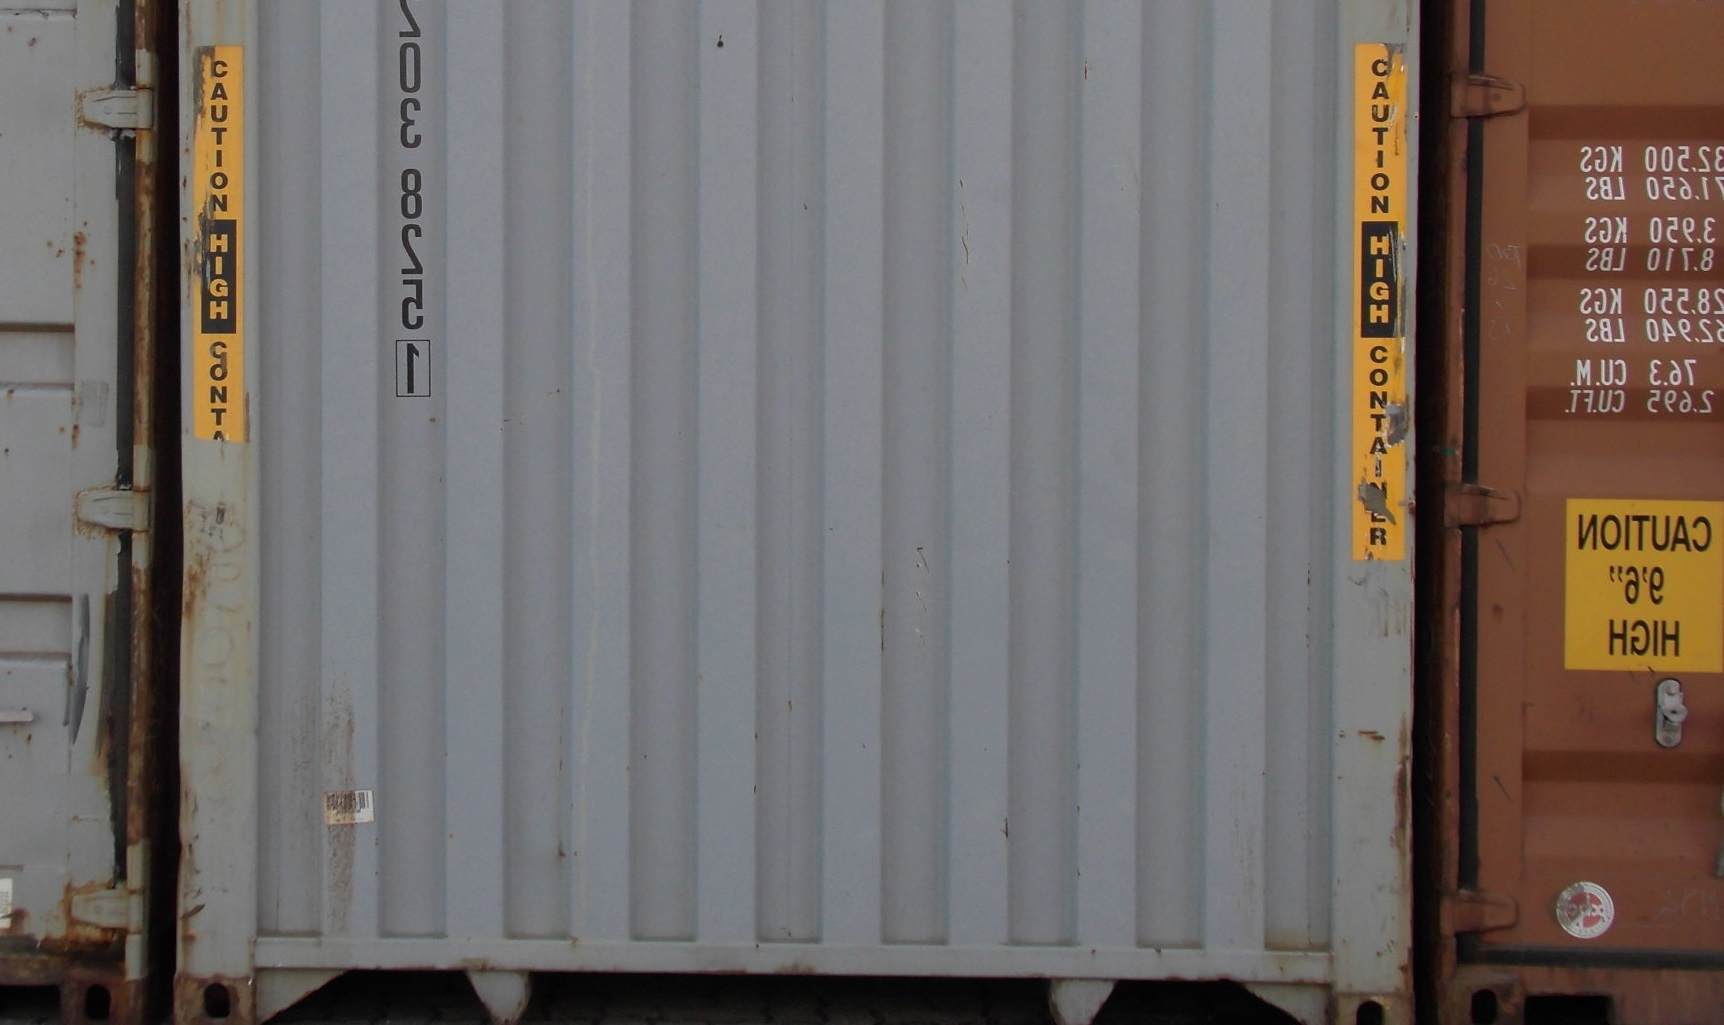container_no_door: (177, 2, 1421, 1005)
